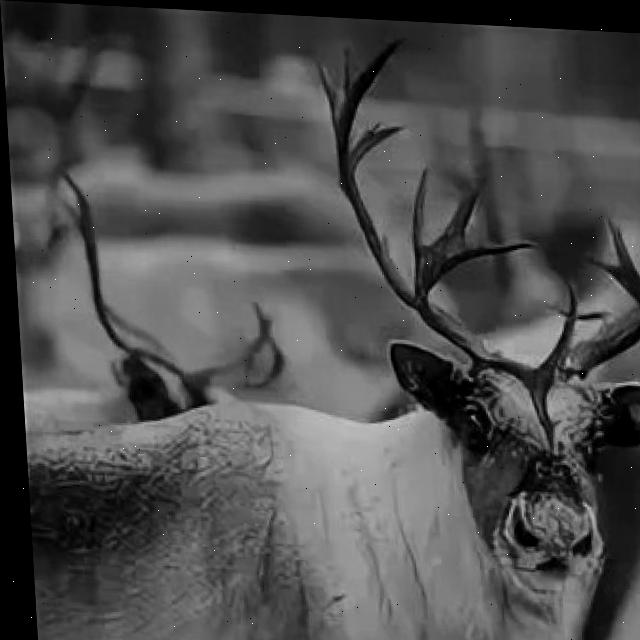Deer: (68, 160, 640, 640)
